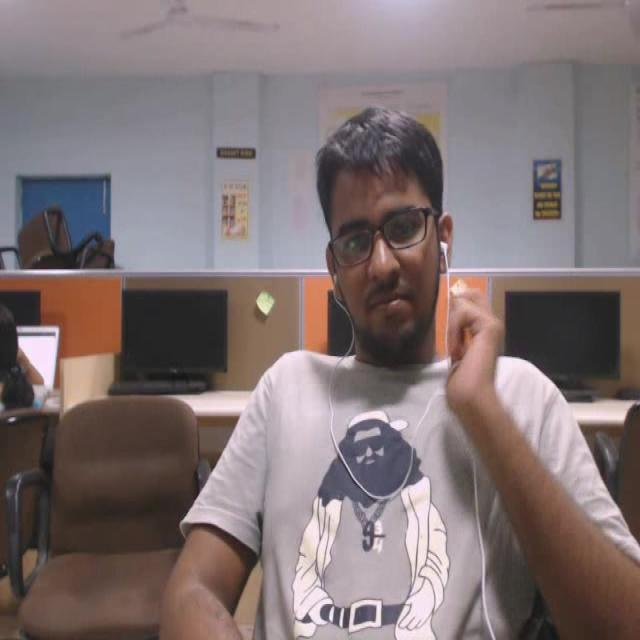Engaged: (294, 72, 508, 410)
